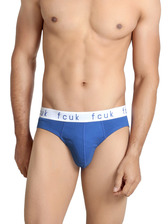clothoes: (31, 105, 132, 174)
